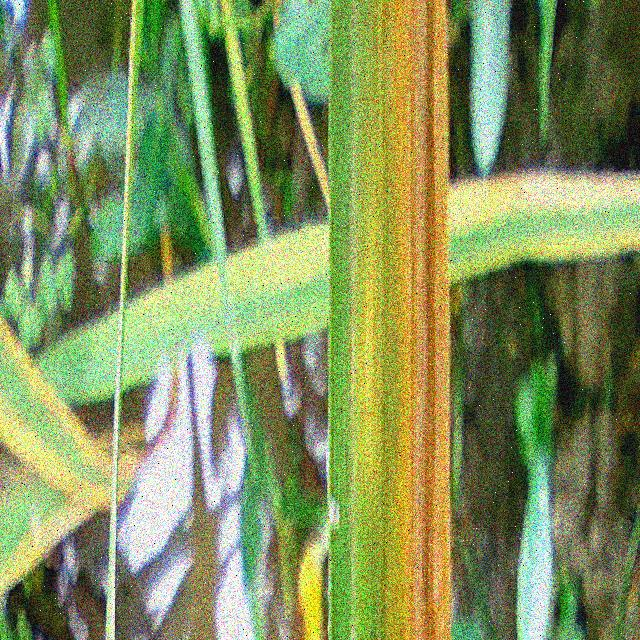BLB: (393, 2, 449, 640)
